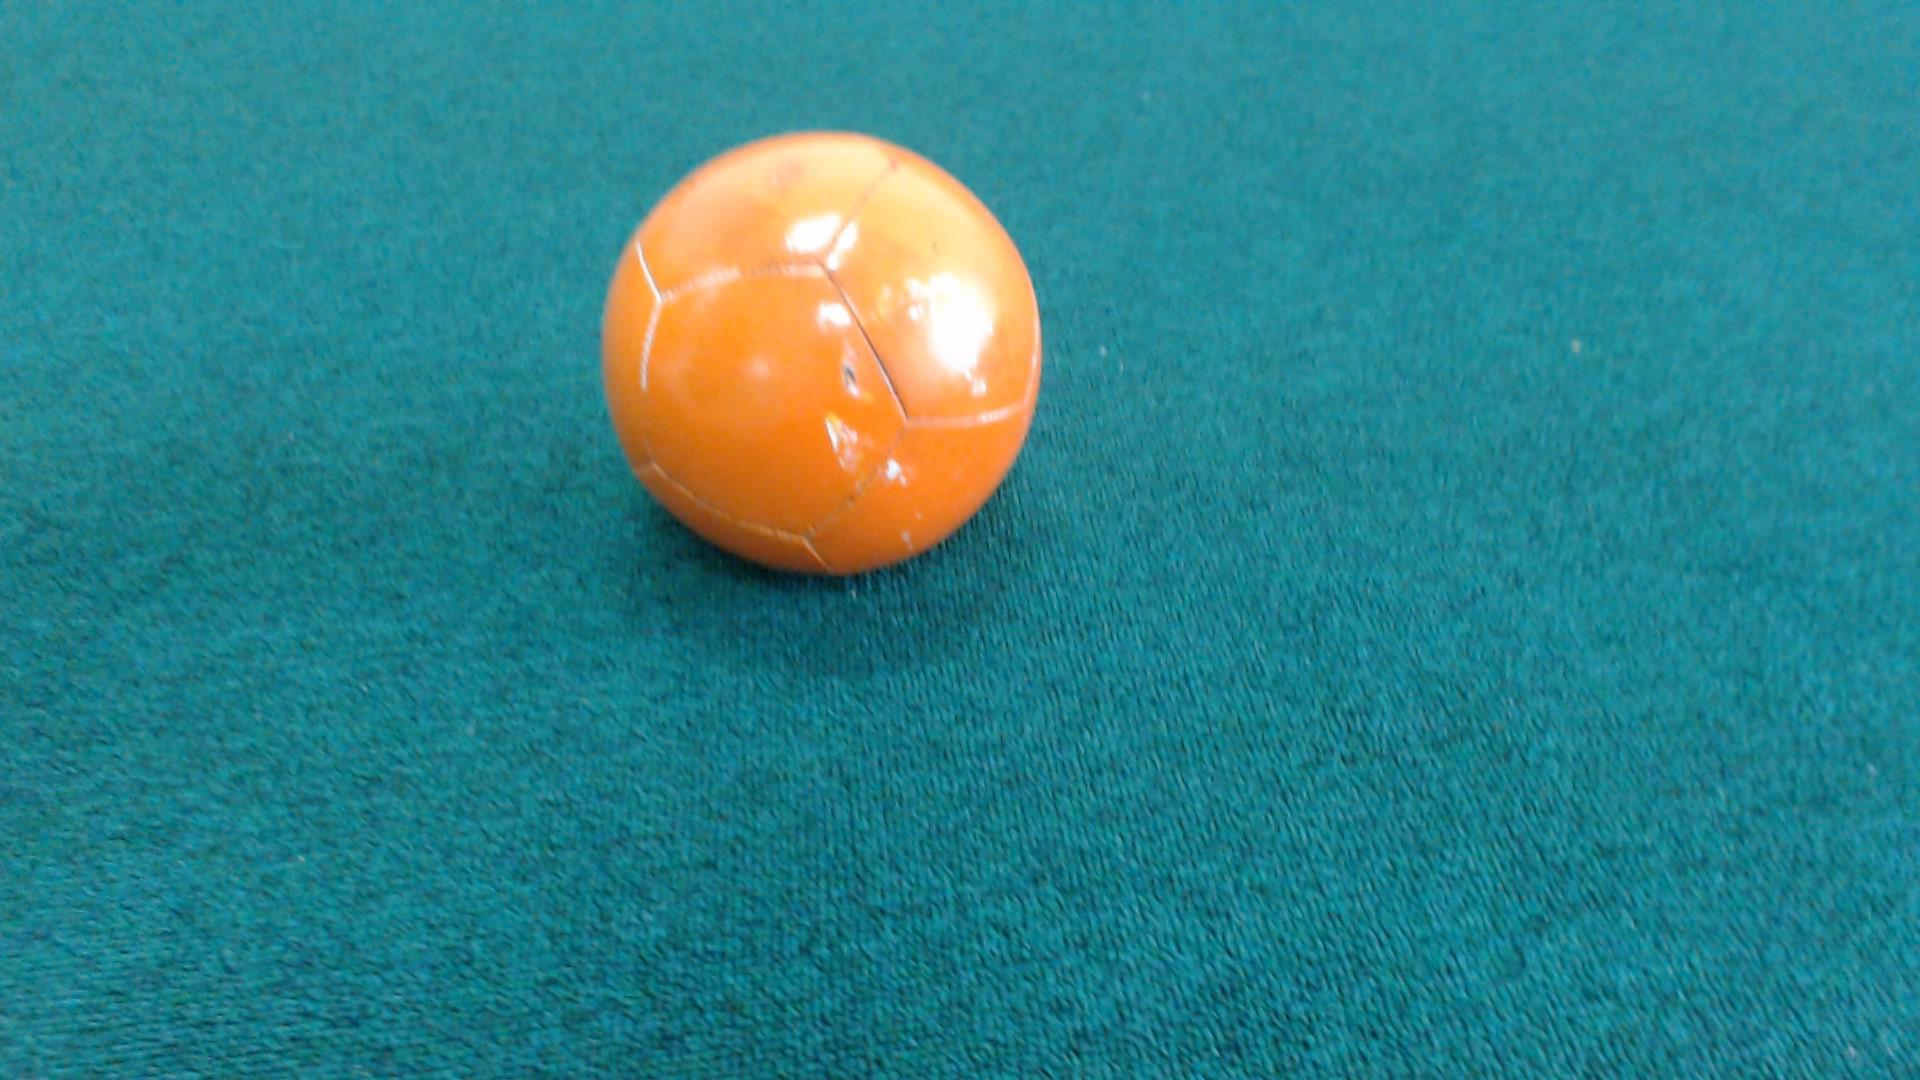bola: (575, 119, 1060, 600)
